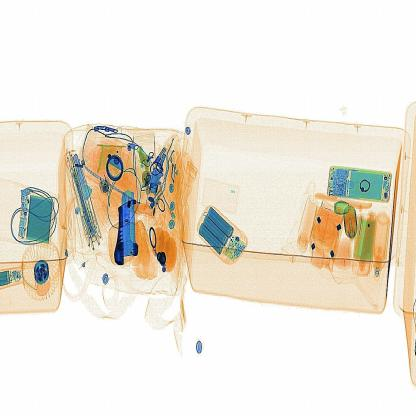pliers: (109, 188, 148, 263)
